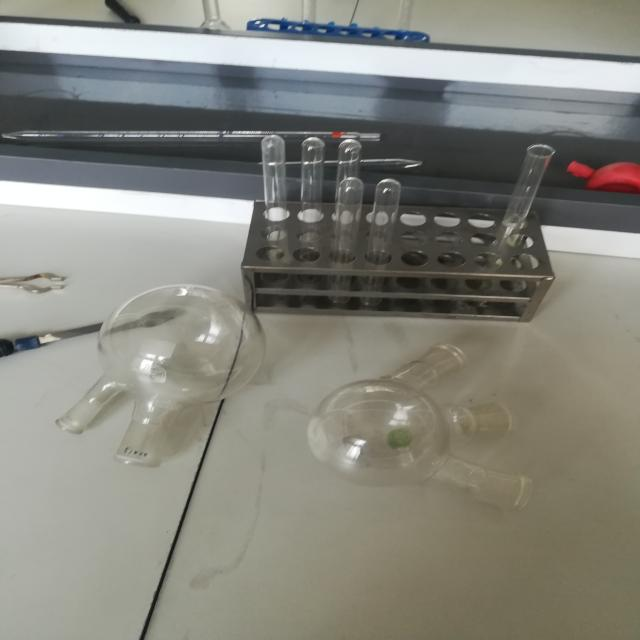Round_Bottom_Flask_Borosilicate_Glass_2_Neck: (48, 266, 285, 486)
Round_Bottom_Flask_Borosilicate_Glass_3_Neck: (306, 313, 578, 538)
